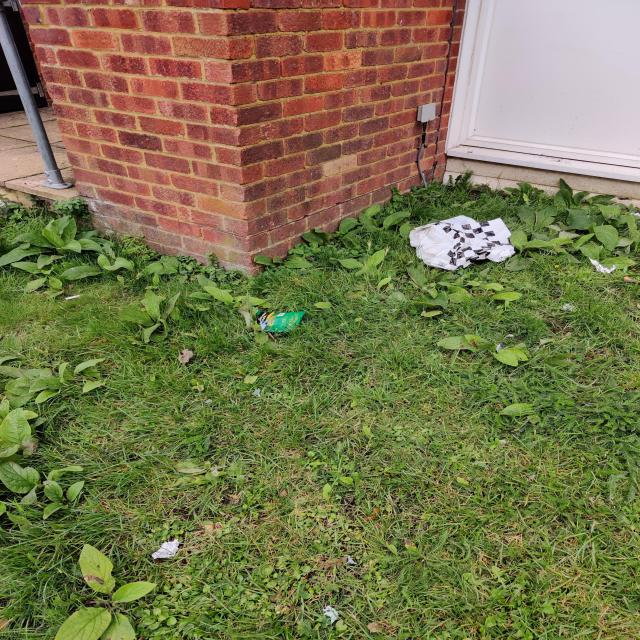litter: (407, 215, 525, 274), (252, 305, 307, 337)
